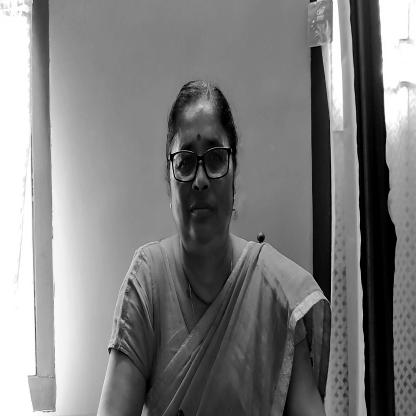Normal: (165, 88, 241, 251)
